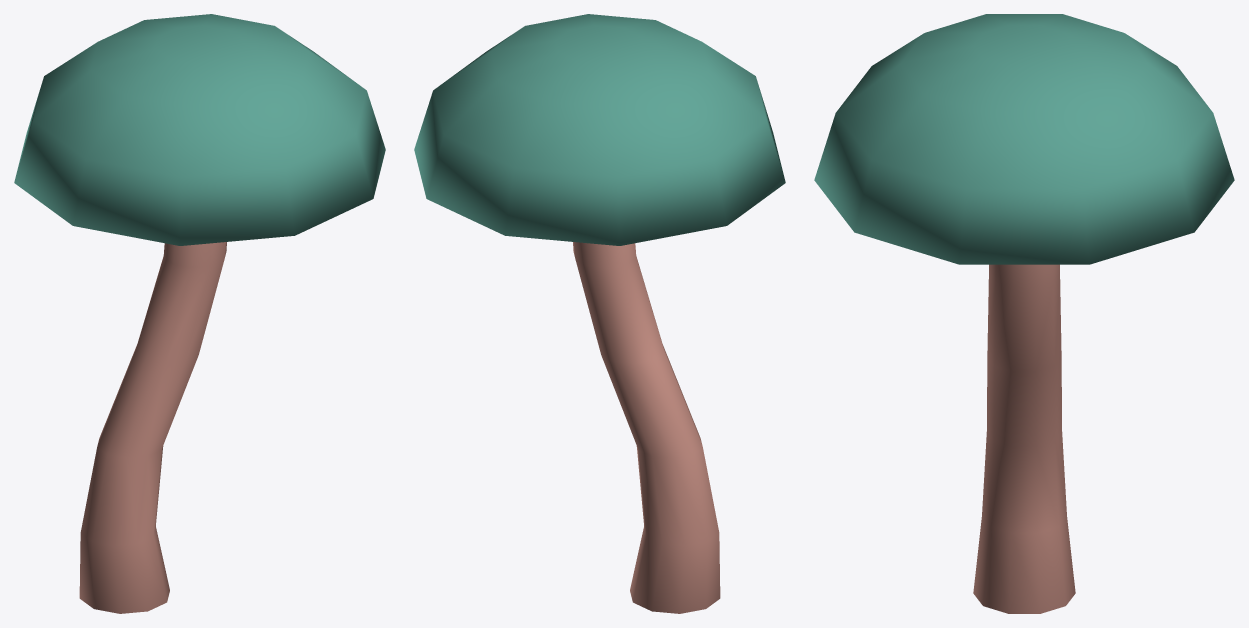
File: Mushroom_Turquoise_Tall_4.fbx
The picture shows the model from 3 angles, left to right: view 1: azimuth 30°, elevation 25°; view 2: azimuth 150°, elevation 25°; view 3: azimuth 270°, elevation 25°; orthographic projection. The views are drawn at different scales.
Parts seen in each view (by area): view 1: Cylinder.561, Cylinder.562; view 2: Cylinder.561, Cylinder.562; view 3: Cylinder.561, Cylinder.562.
Part boxes in pixels (x1,y1,x2,y2): Cylinder.561: [14, 14, 385, 245]; Cylinder.562: [79, 242, 226, 613]; Cylinder.561: [414, 14, 785, 245]; Cylinder.562: [573, 242, 720, 613]; Cylinder.561: [814, 14, 1234, 264]; Cylinder.562: [973, 264, 1075, 613].
Size of the model in its own units: 82.22 by 133 by 86.45.
